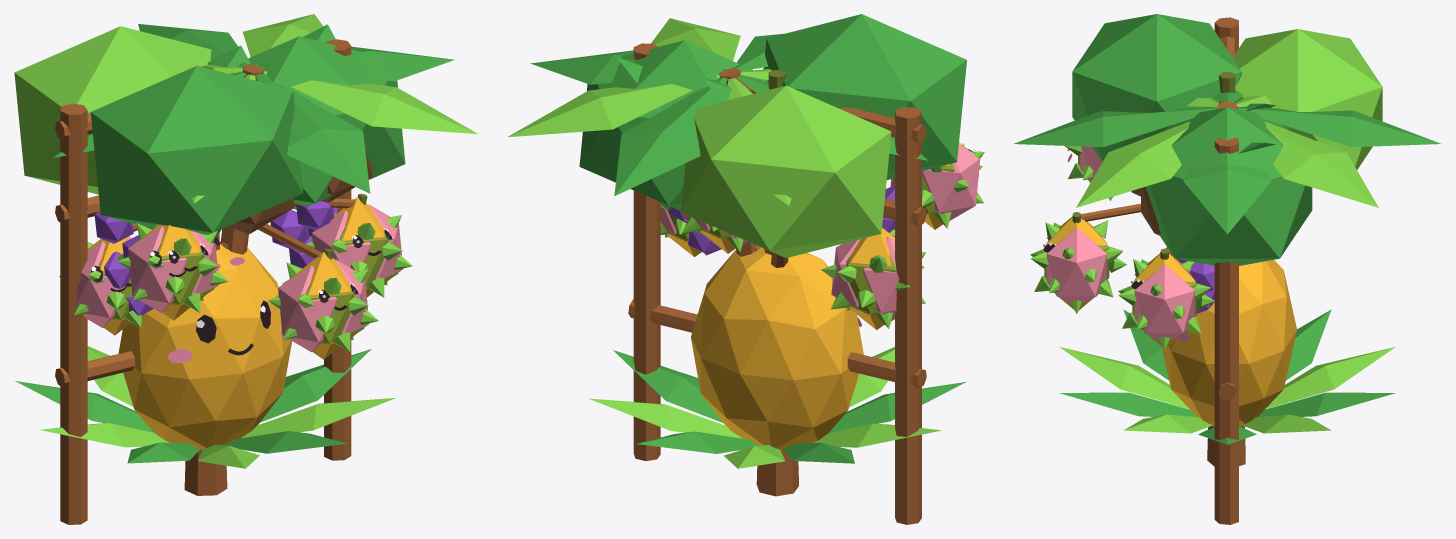
Rendered from fruit_crops.glb.
The picture shows the model from 3 angles, left to right: view 1: azimuth 30°, elevation 25°; view 2: azimuth 150°, elevation 25°; view 3: azimuth 270°, elevation 25°; orthographic projection. The views are drawn at different scales.
Parts seen in each view (by area): view 1: crop_apple_mesh, crop_pineapple_mesh, crop_grape_mesh, crop_coconut_mesh, crop_peach_mesh, crop_durian_mesh, crop_mango_mesh; view 2: crop_apple_mesh, crop_pineapple_mesh, crop_grape_mesh, crop_coconut_mesh, crop_peach_mesh, crop_durian_mesh, crop_mango_mesh; view 3: crop_apple_mesh, crop_pineapple_mesh, crop_coconut_mesh, crop_grape_mesh, crop_peach_mesh, crop_durian_mesh, crop_mango_mesh.
Part boxes in pixels (x1=…): crop_apple_mesh: x1=14, y1=26, x2=405, y2=495; crop_pineapple_mesh: x1=15, y1=229, x2=395, y2=468; crop_grape_mesh: x1=55, y1=24, x2=351, y2=524; crop_coconut_mesh: x1=53, y1=14, x2=477, y2=254; crop_peach_mesh: x1=75, y1=204, x2=402, y2=352; crop_durian_mesh: x1=59, y1=213, x2=412, y2=351; crop_mango_mesh: x1=87, y1=197, x2=393, y2=359; crop_apple_mesh: x1=579, y1=14, x2=966, y2=496; crop_pineapple_mesh: x1=589, y1=247, x2=966, y2=468; crop_grape_mesh: x1=617, y1=43, x2=926, y2=524; crop_coconut_mesh: x1=507, y1=18, x2=927, y2=469; crop_peach_mesh: x1=660, y1=144, x2=980, y2=320; crop_durian_mesh: x1=660, y1=143, x2=984, y2=328; crop_mango_mesh: x1=666, y1=142, x2=967, y2=329; crop_apple_mesh: x1=1054, y1=14, x2=1382, y2=466; crop_pineapple_mesh: x1=1059, y1=260, x2=1395, y2=444; crop_coconut_mesh: x1=1014, y1=89, x2=1440, y2=427; crop_grape_mesh: x1=1171, y1=17, x2=1275, y2=524; crop_peach_mesh: x1=1046, y1=146, x2=1194, y2=340; crop_durian_mesh: x1=1030, y1=146, x2=1214, y2=350; crop_mango_mesh: x1=1043, y1=196, x2=1195, y2=346.
Bounding box in the file's own units: 1.2 × 1.28 × 1.16.
